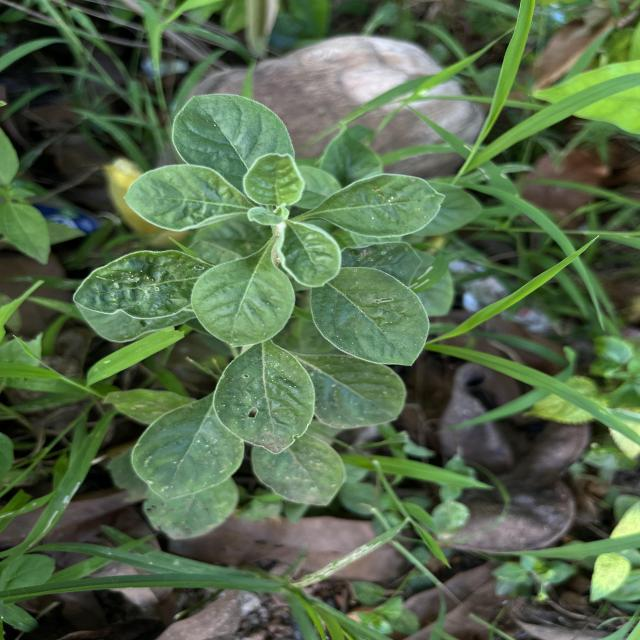Aerva lanata: (170, 92, 298, 198), (307, 265, 432, 368), (210, 343, 319, 456)
